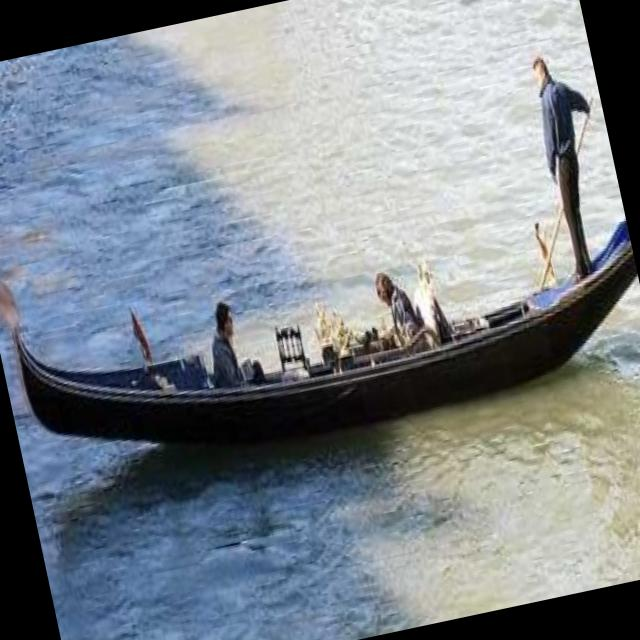boat: (0, 91, 640, 510)
